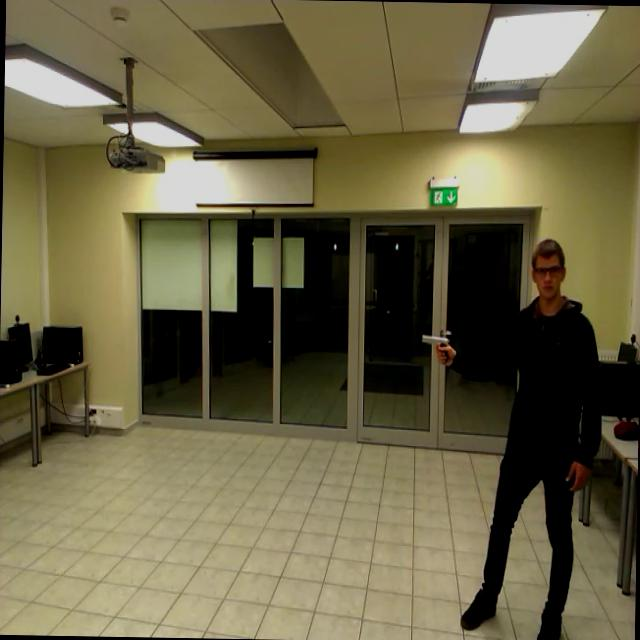handgun: (408, 314, 458, 376)
